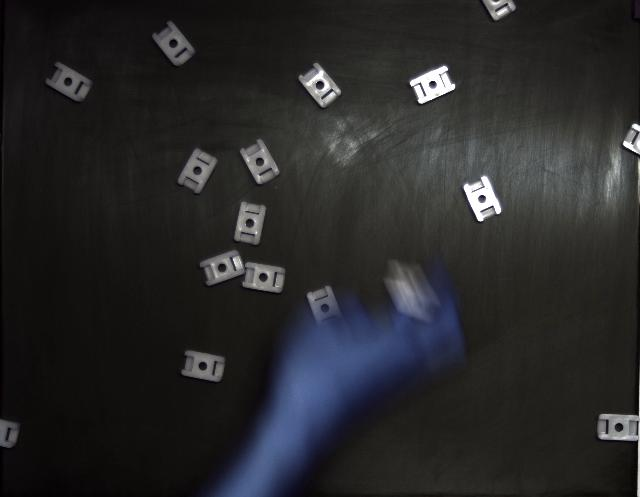second_side: (152, 21, 196, 66), (299, 62, 341, 108), (45, 62, 92, 102), (240, 140, 280, 185), (178, 149, 218, 194), (410, 66, 455, 104), (464, 176, 501, 222), (200, 250, 245, 286), (234, 201, 266, 245), (242, 262, 285, 294), (181, 351, 225, 382), (598, 414, 640, 441)
